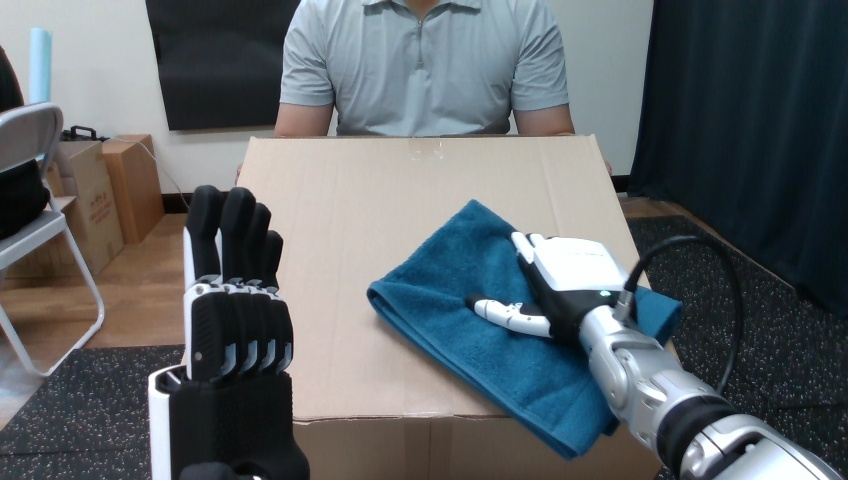left robot hand: (148, 185, 308, 478), (724, 246, 847, 477), (647, 244, 733, 385)
